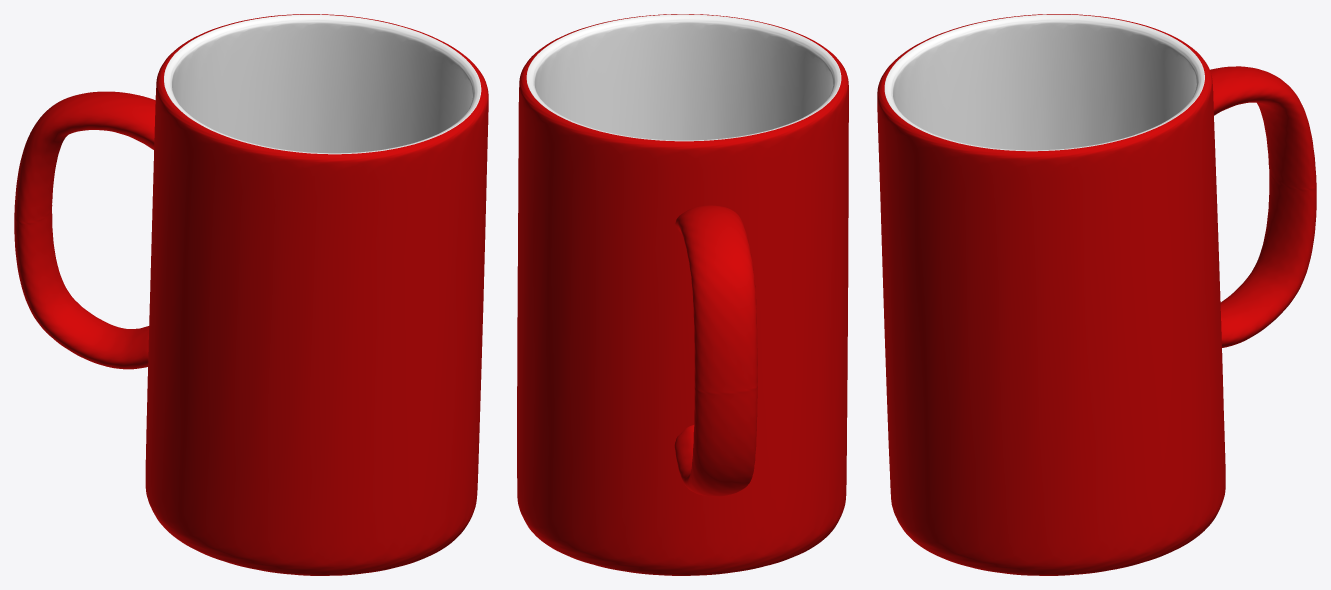
The picture shows the model from 3 angles, left to right: view 1: azimuth 30°, elevation 25°; view 2: azimuth 150°, elevation 25°; view 3: azimuth 270°, elevation 25°; orthographic projection.
Visible parts, largest first — view 1: Object_2, Object_3; view 2: Object_2, Object_3; view 3: Object_2, Object_3.
Part boxes in pixels (bbox=[...]): Object_2: bbox=[14, 14, 488, 575]; Object_3: bbox=[164, 14, 481, 154]; Object_2: bbox=[517, 14, 848, 575]; Object_3: bbox=[526, 14, 841, 141]; Object_2: bbox=[877, 14, 1316, 575]; Object_3: bbox=[884, 14, 1204, 151].
Size of the model in its own units: 2.61 by 3.29 by 2.99.
